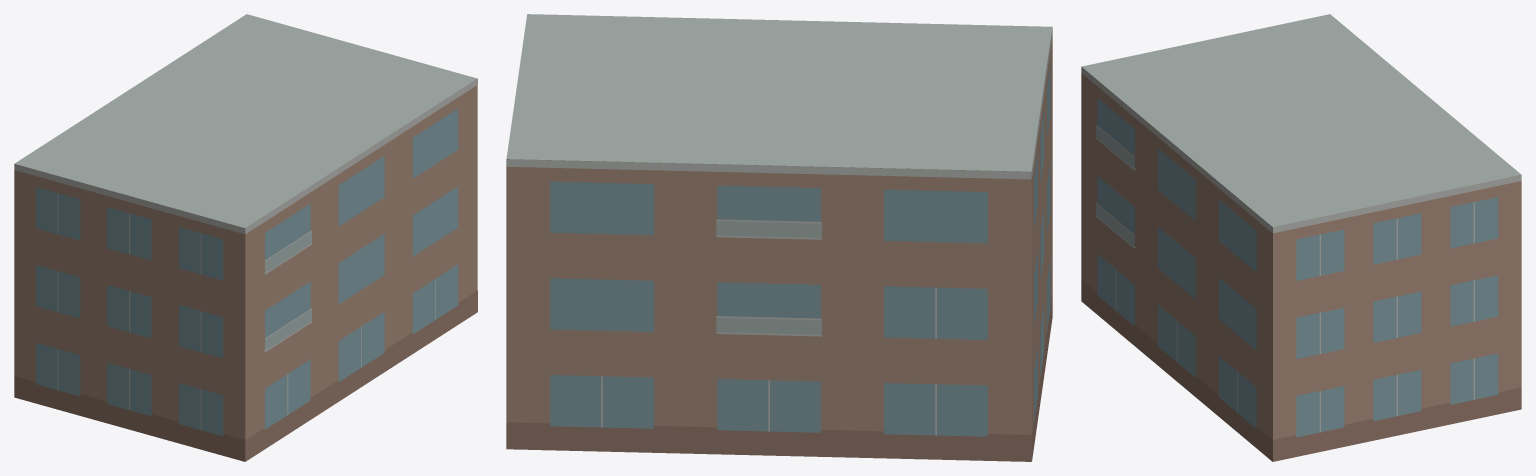
The model's file is survey-upis-32955550.glb.
3 renders of one model, left to right at view 1: azimuth 30°, elevation 25°; view 2: azimuth 150°, elevation 25°; view 3: azimuth 270°, elevation 25°, orthographic. The views are drawn at different scales.
Visible parts, largest first — view 1: survey-upis-32955550.tmp; view 2: survey-upis-32955550.tmp; view 3: survey-upis-32955550.tmp.
Boxes of the visible parts, <box> form: survey-upis-32955550.tmp: <box>14,14,477,461</box>; survey-upis-32955550.tmp: <box>506,14,1052,461</box>; survey-upis-32955550.tmp: <box>1081,14,1521,461</box>.
Size of the model in its own units: 17.83 by 9.15 by 15.56.
